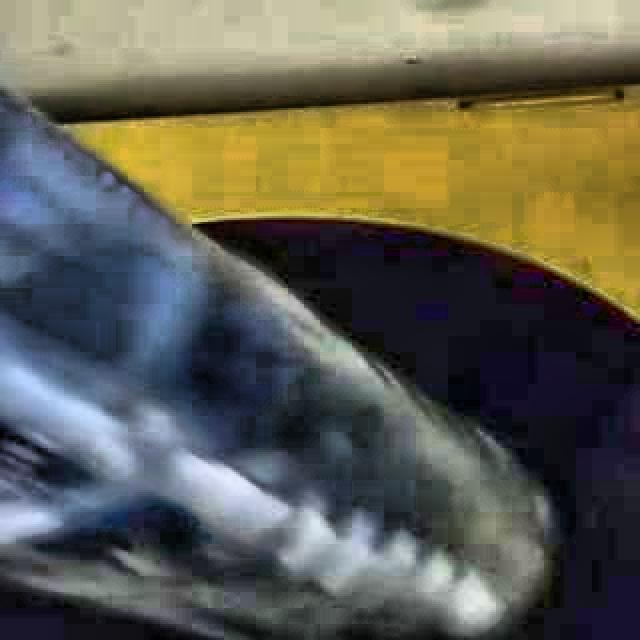plastic: (0, 88, 549, 640)
